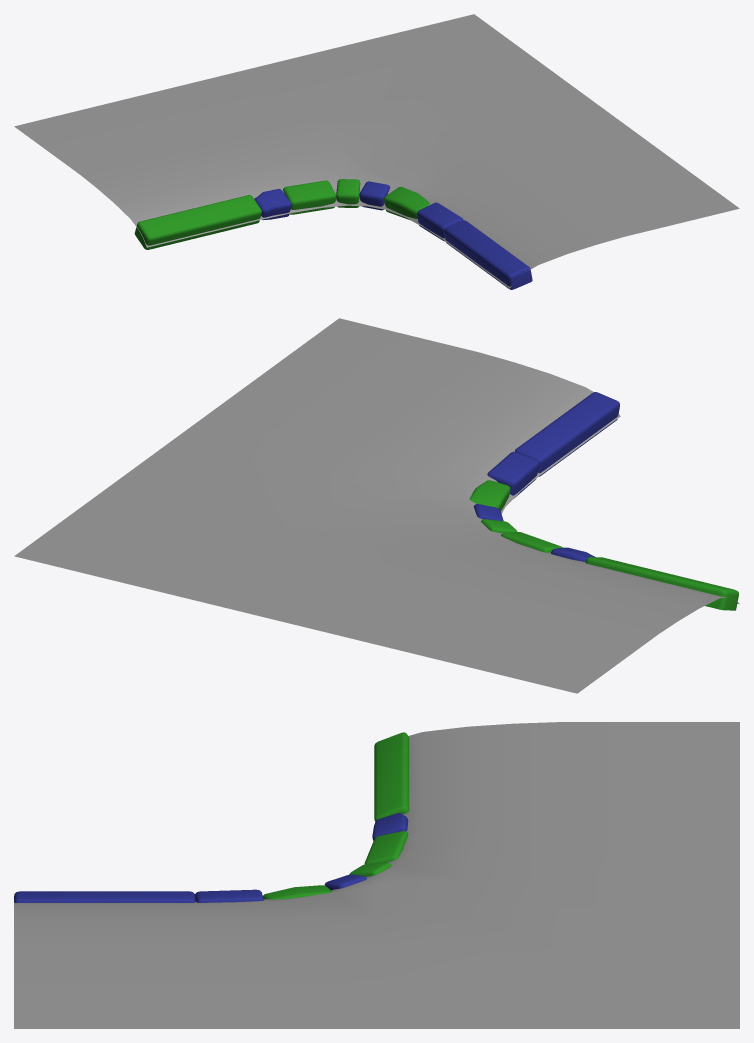
Rendered from bordur corn in.FBX.
The picture shows the model from 3 angles, top to bottom: view 1: azimuth 30°, elevation 25°; view 2: azimuth 150°, elevation 25°; view 3: azimuth 270°, elevation 25°; orthographic projection. The views are drawn at different scales.
Visible parts, largest first — view 1: Plane221; view 2: Plane221; view 3: Plane221.
Boxes of the visible parts, box(x1,y1,x2,y2) form: Plane221: box(14, 14, 739, 289); Plane221: box(14, 318, 739, 693); Plane221: box(14, 722, 739, 1028).
Bounding box in the file's own units: 8 × 0.4695 × 8.
